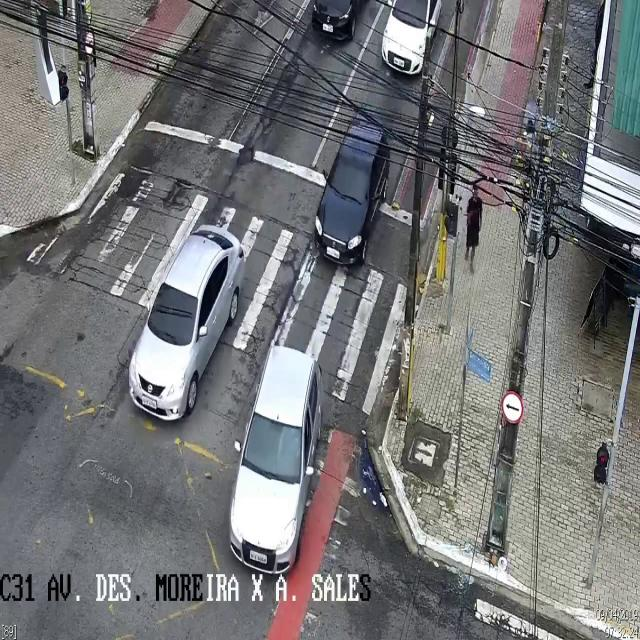Car: (128, 223, 244, 421), (229, 344, 323, 575), (313, 116, 390, 273), (382, 0, 437, 81), (312, 0, 371, 48)
